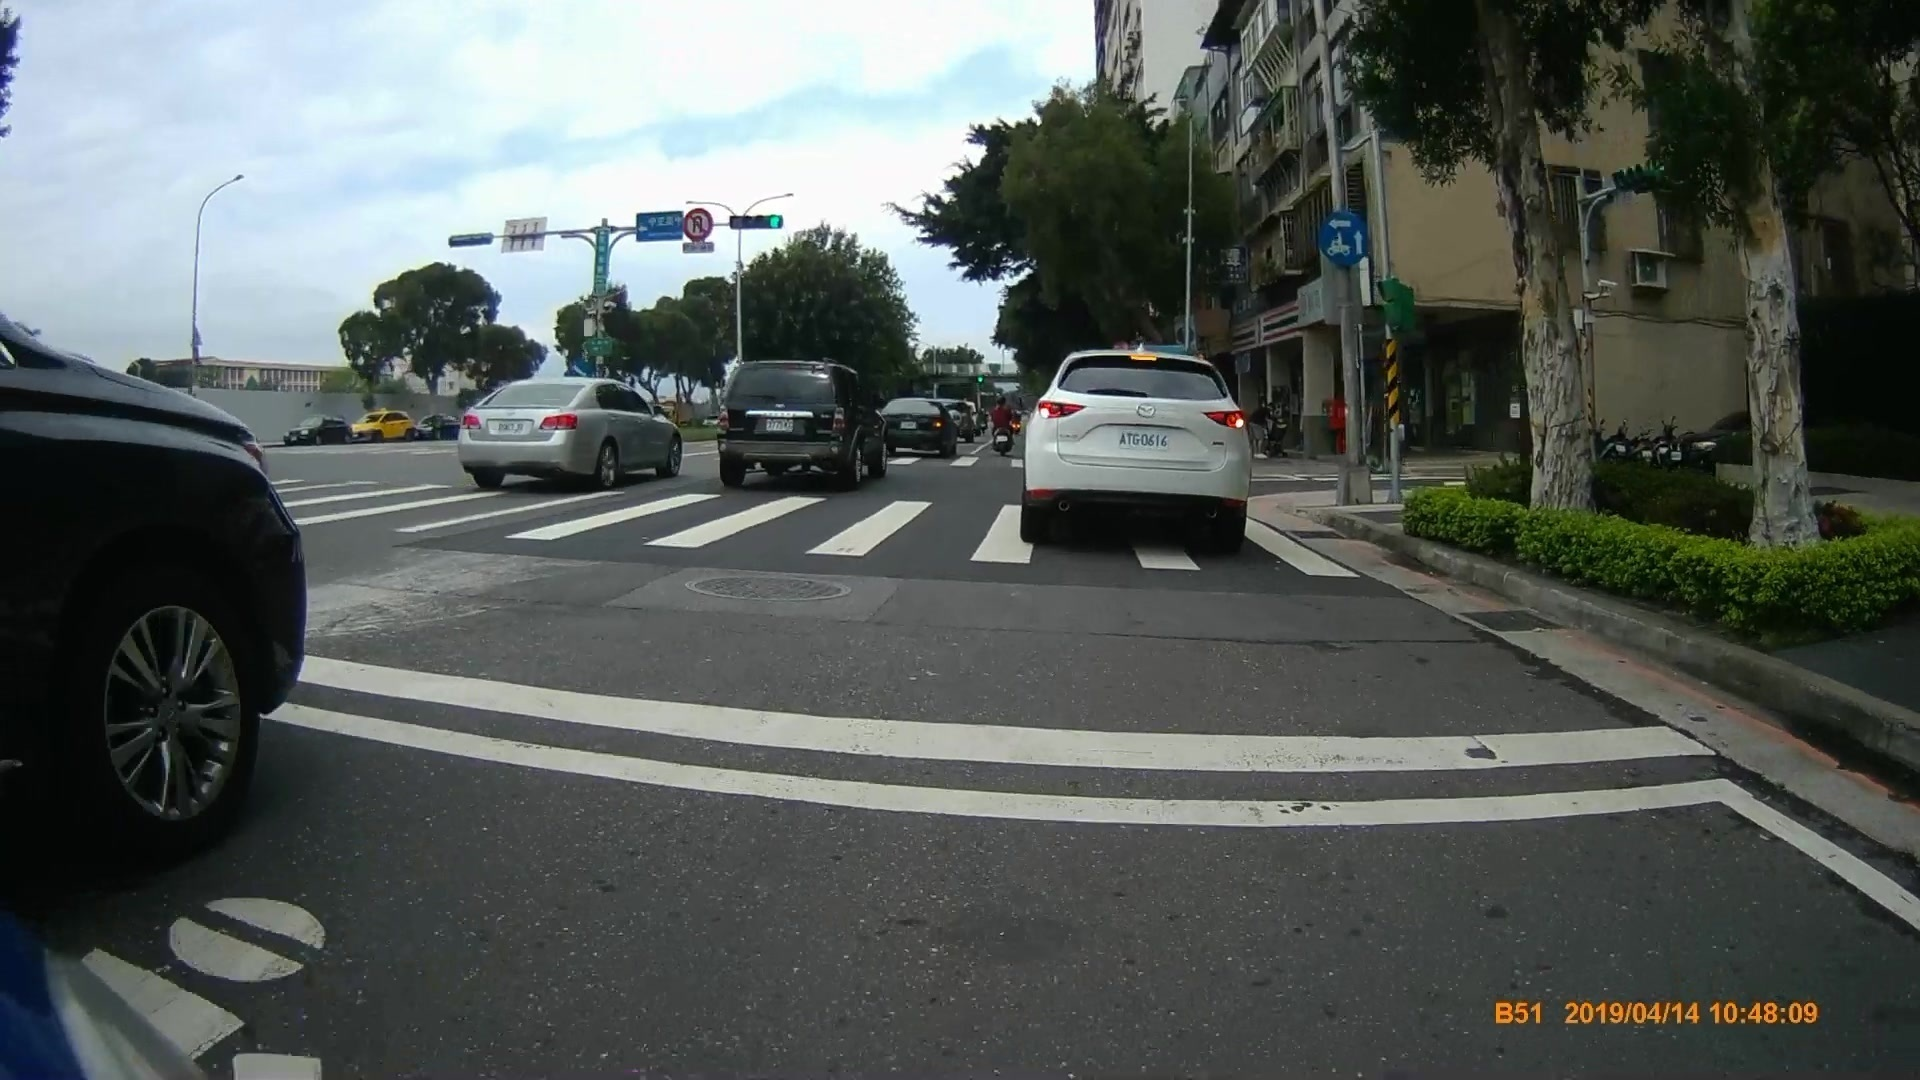License_plate: (1116, 427, 1173, 451), (493, 421, 529, 435), (764, 418, 797, 431)
